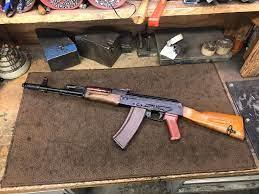larga: (21, 76, 246, 151)
